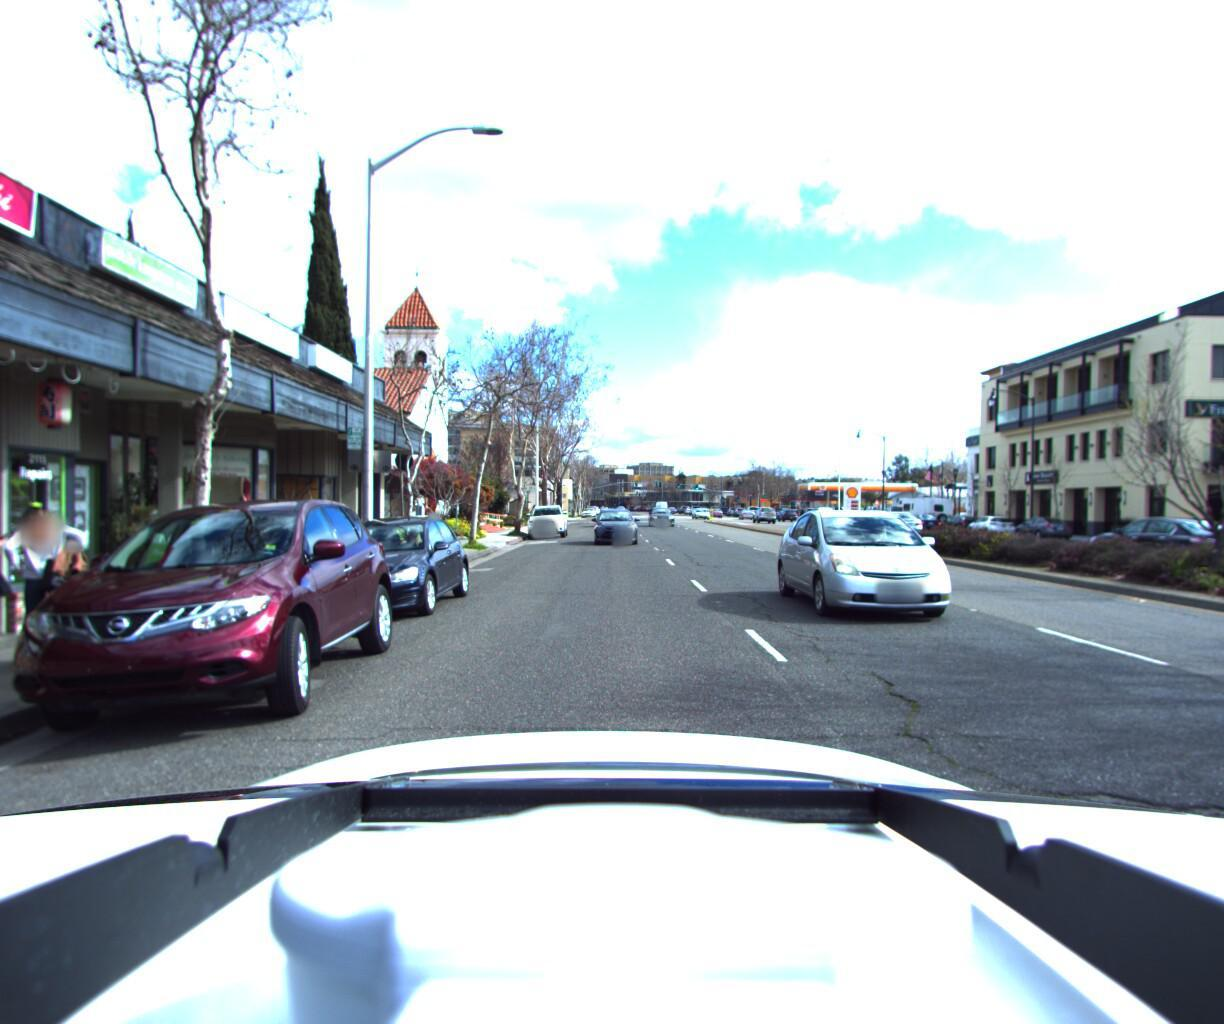car: (774, 508, 1017, 642), (286, 510, 478, 633), (1069, 513, 1224, 582), (1009, 516, 1078, 543), (596, 509, 641, 550), (860, 513, 918, 541), (527, 505, 568, 541), (964, 514, 1018, 539), (896, 516, 940, 538), (650, 513, 676, 535), (753, 507, 777, 526)
other_vehicle: (895, 493, 958, 534)
